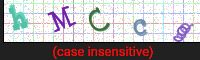C: (86, 5, 113, 36)
M: (46, 2, 78, 33)
c: (129, 15, 150, 38)
g: (167, 19, 197, 43)
h: (4, 1, 32, 31)
